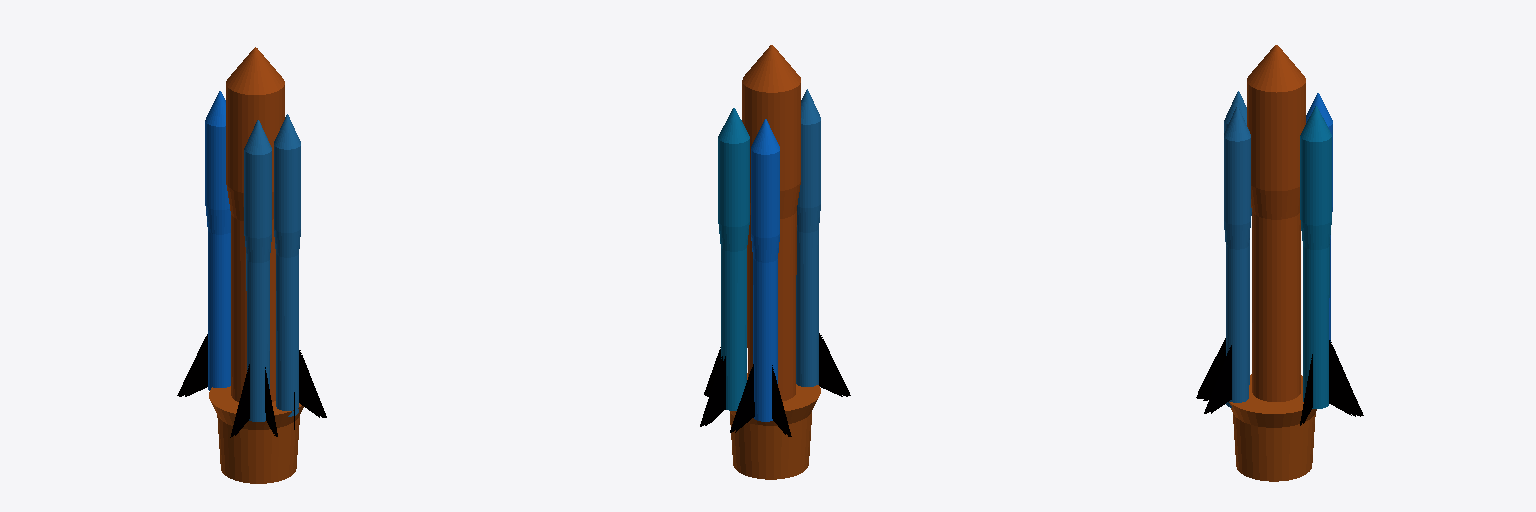
Rendered from missile.obj.
3 renders of one model, left to right at view 1: azimuth 30°, elevation 25°; view 2: azimuth 150°, elevation 25°; view 3: azimuth 270°, elevation 25°, orthographic.
Parts seen in each view (by area): view 1: Circle, Circle.001, Circle.002_Circle.001, Circle.005, Cylinder, Cylinder.003_Cylinder.001, Cylinder.009_Cylinder.001, Cylinder.001; view 2: Circle, Circle.004, Circle.005, Circle.002_Circle.001, Cylinder, Cylinder.001, Cylinder.002_Cylinder.001, Cylinder.006_Cylinder.001, Cylinder.003_Cylinder.001; view 3: Circle, Circle.004, Circle.001, Cylinder, Cylinder.004_Cylinder.001, Cylinder.009_Cylinder.001, Cylinder.005_Cylinder.001, Circle.005.
Part boxes in pixels (bbox=[...]): Circle: bbox=[226, 47, 284, 401]; Circle.001: bbox=[274, 114, 300, 416]; Circle.002_Circle.001: bbox=[244, 120, 271, 421]; Circle.005: bbox=[205, 91, 230, 390]; Cylinder: bbox=[209, 386, 303, 483]; Cylinder.003_Cylinder.001: bbox=[177, 334, 207, 396]; Cylinder.009_Cylinder.001: bbox=[299, 350, 326, 417]; Cylinder.001: bbox=[230, 364, 249, 437]; Circle: bbox=[742, 45, 800, 401]; Circle.004: bbox=[718, 108, 749, 410]; Circle.005: bbox=[751, 119, 779, 421]; Circle.002_Circle.001: bbox=[796, 89, 820, 386]; Cylinder: bbox=[730, 373, 820, 479]; Cylinder.001: bbox=[819, 333, 850, 396]; Cylinder.002_Cylinder.001: bbox=[730, 364, 754, 432]; Cylinder.006_Cylinder.001: bbox=[703, 356, 725, 424]; Cylinder.003_Cylinder.001: bbox=[772, 365, 791, 436]; Circle: bbox=[1247, 45, 1305, 401]; Circle.004: bbox=[1300, 106, 1331, 408]; Circle.001: bbox=[1224, 106, 1250, 407]; Cylinder: bbox=[1229, 374, 1316, 481]; Cylinder.004_Cylinder.001: bbox=[1333, 351, 1363, 416]; Cylinder.009_Cylinder.001: bbox=[1204, 345, 1231, 413]; Cylinder.005_Cylinder.001: bbox=[1196, 342, 1224, 400]; Circle.005: bbox=[1306, 93, 1332, 341].
Size of the model in its own units: 4.26 by 15.66 by 5.69.